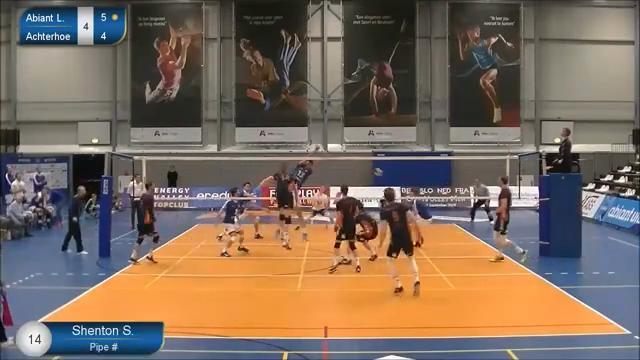attacco: (291, 144, 326, 191)
